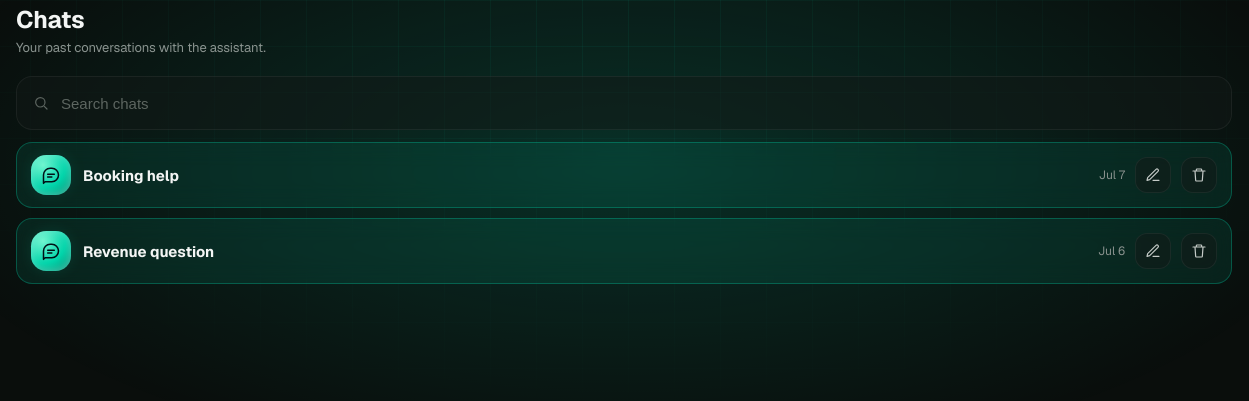
Test: Conversations page › shows a no-matches state when the search matches nothing
Expected: the text "Booking help" is shown, [83,166,179,184]
Type "zzz" into the search field with placeholder "Search chats". click: (637, 103)
box: [59,77,1215,129]
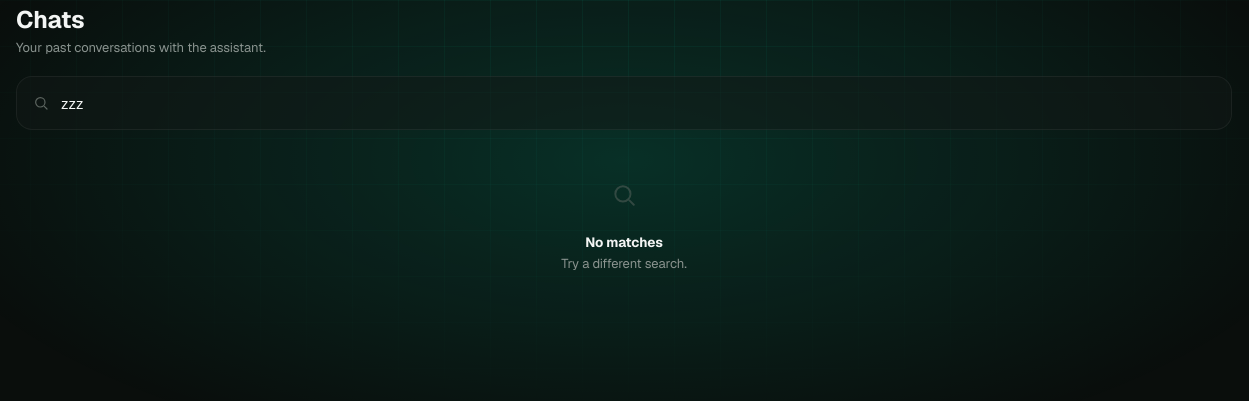
Now the text "No matches" is shown, box [585,233,663,251]
